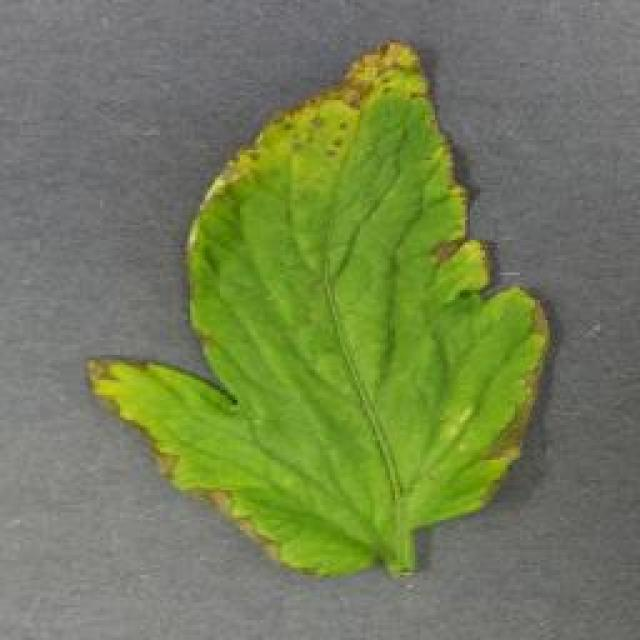Tomato___Bacterial_spot: (74, 34, 552, 577)
